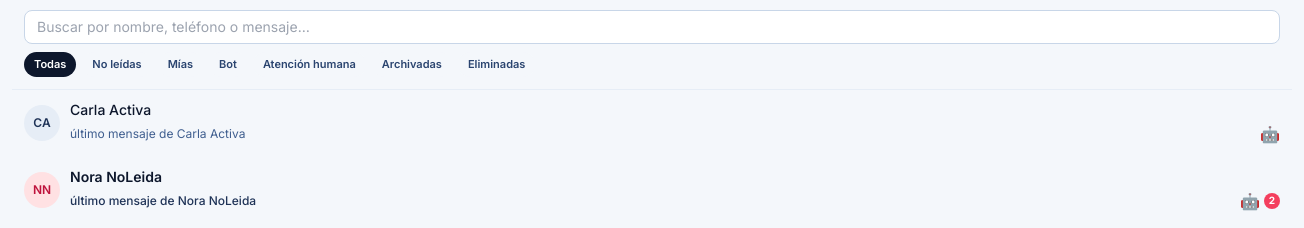
Test: ConversationList — filtros › chip «Eliminadas» muestra SOLO las eliminadas, con su badge
What coordinates should you click on to do the following:
click the button "Eliminadas"
I would click on:
 (497, 64)
Its box is x1=458 y1=52 x2=535 y2=76.
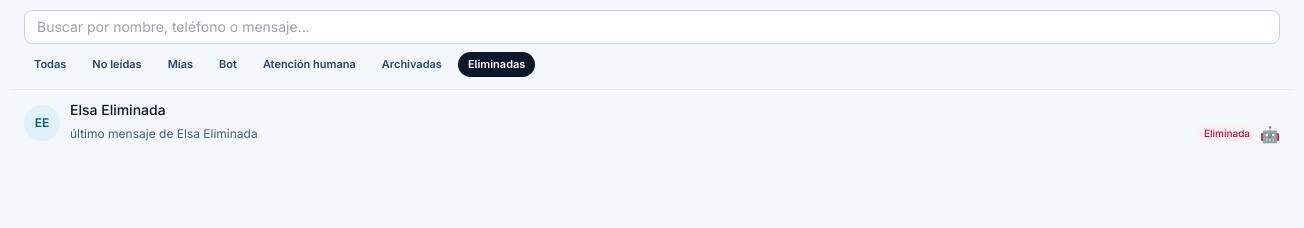
expect the text "Elsa Eliminada" is shown: met, box x1=70 y1=100 x2=166 y2=120
expect the text "Eliminada" is shown: met, box x1=1198 y1=126 x2=1256 y2=141
expect the button "Carla Activa" is gone: met
